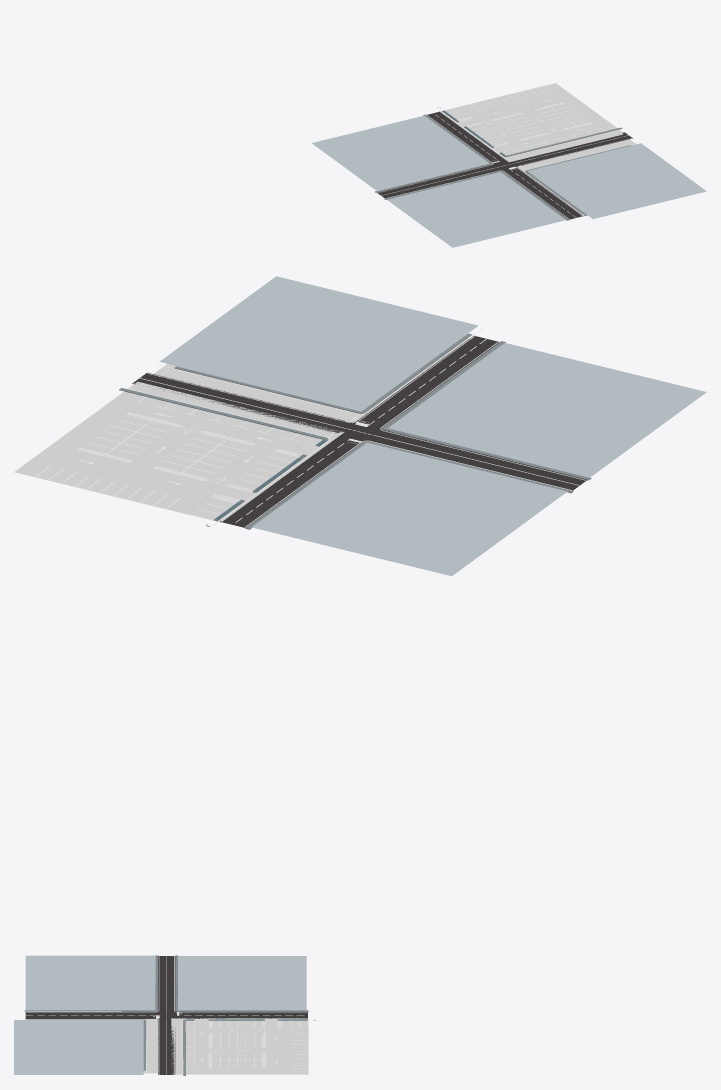
File: parking_.dae
3 views of the same model, one above another, from view 1: azimuth 30°, elevation 25°; view 2: azimuth 150°, elevation 25°; view 3: azimuth 270°, elevation 25° (orthographic). The views are drawn at different scales.
Parts seen in each view (by area): view 1: SketchUp_043.004, SketchUp_041.001, SketchUp_041, SketchUp_042, SketchUp_029, SketchUp_043.002, SketchUp_003, SketchUp_003.001; view 2: SketchUp_043.004, SketchUp_041.001, SketchUp_041, SketchUp_042, SketchUp_029, SketchUp_043.002, SketchUp_003.001, SketchUp_003.002, SketchUp_003; view 3: SketchUp_043.004, SketchUp_041, SketchUp_041.001, SketchUp_042, SketchUp_029, SketchUp_043.002, SketchUp_003.001, SketchUp_003, SketchUp_003.002.
Part boxes in pixels (x1,y1,x2,y2): SketchUp_043.004: (439,83,623,162); SketchUp_041.001: (527,143,706,218); SketchUp_041: (387,172,565,247); SketchUp_042: (311,115,488,190); SketchUp_029: (377,111,632,219); SketchUp_043.002: (516,139,635,214); SketchUp_003: (375,114,492,192); SketchUp_003.001: (385,170,568,220); SketchUp_043.004: (14,381,344,522); SketchUp_041.001: (159,276,478,410); SketchUp_041: (388,343,706,477); SketchUp_042: (251,442,567,576); SketchUp_029: (132,336,586,527); SketchUp_043.002: (152,338,470,423); SketchUp_003.001: (382,341,591,480); SketchUp_003.002: (174,333,472,413); SketchUp_003: (245,441,573,529); SketchUp_043.004: (171,1018,308,1074); SketchUp_041: (25,955,155,1010); SketchUp_041.001: (14,1020,143,1074); SketchUp_042: (178,956,306,1010); SketchUp_029: (25,956,307,1074); SketchUp_043.002: (143,1018,159,1073); SketchUp_003.001: (24,955,158,1011); SketchUp_003: (175,955,308,1011); SketchUp_003.002: (25,1019,146,1070).
Size of the model in its own units: 140 by 246 by 0.21.
8 materials, 2 textured.
